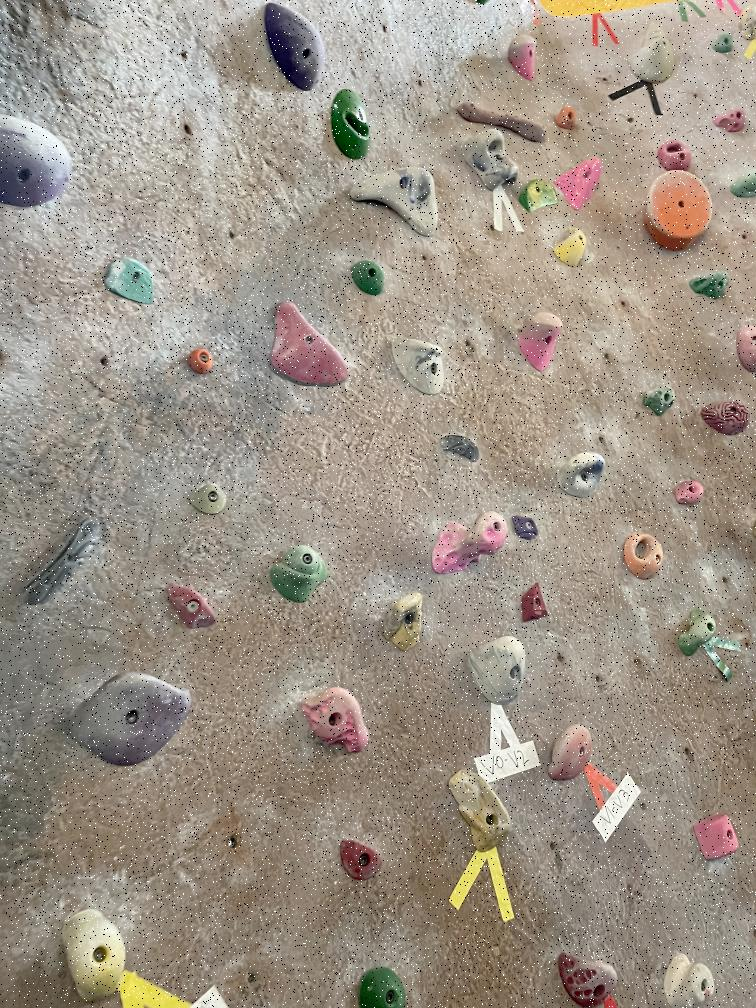Crimp: (152, 572, 228, 636), (103, 247, 162, 312), (183, 480, 241, 528), (344, 249, 394, 299), (436, 430, 485, 465), (516, 178, 559, 214), (638, 382, 681, 417), (510, 513, 543, 542), (551, 104, 581, 135), (707, 31, 738, 60)
Edges: (684, 808, 750, 868), (328, 831, 399, 886)
Foothold: (439, 766, 524, 856), (638, 169, 715, 257), (260, 536, 344, 606), (345, 953, 419, 1008), (663, 472, 712, 512), (516, 579, 556, 627), (184, 340, 224, 380)
Hand-holds: (0, 106, 102, 227), (342, 165, 458, 242), (428, 505, 510, 587), (700, 394, 752, 438), (708, 103, 751, 136), (727, 165, 756, 202)
Jug: (52, 654, 203, 790), (51, 896, 152, 1005), (258, 299, 352, 394), (291, 668, 378, 770), (383, 325, 461, 414), (461, 633, 532, 708), (652, 935, 724, 1008), (547, 947, 632, 1008), (375, 580, 431, 660), (516, 302, 572, 380), (550, 440, 612, 504), (545, 716, 595, 789), (671, 608, 731, 663), (550, 222, 596, 271), (684, 263, 733, 304)
Pinch: (0, 509, 126, 624), (454, 100, 549, 147)
Pocket: (459, 128, 521, 195), (330, 81, 375, 169), (615, 524, 671, 585), (655, 134, 696, 171)
Sloper: (246, 0, 328, 95), (624, 19, 684, 93), (557, 155, 613, 209), (508, 31, 547, 87)
